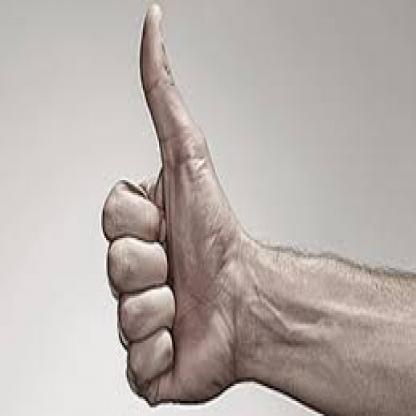thumb_up: (97, 1, 245, 408)
